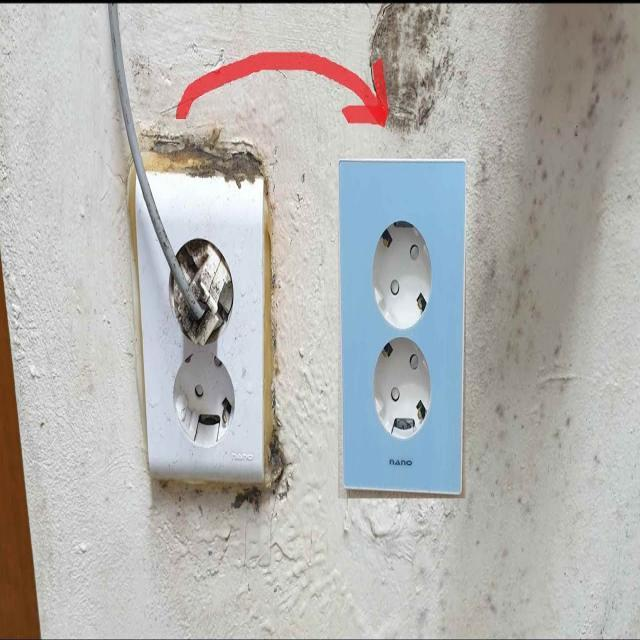typeb: (313, 127, 498, 577)
